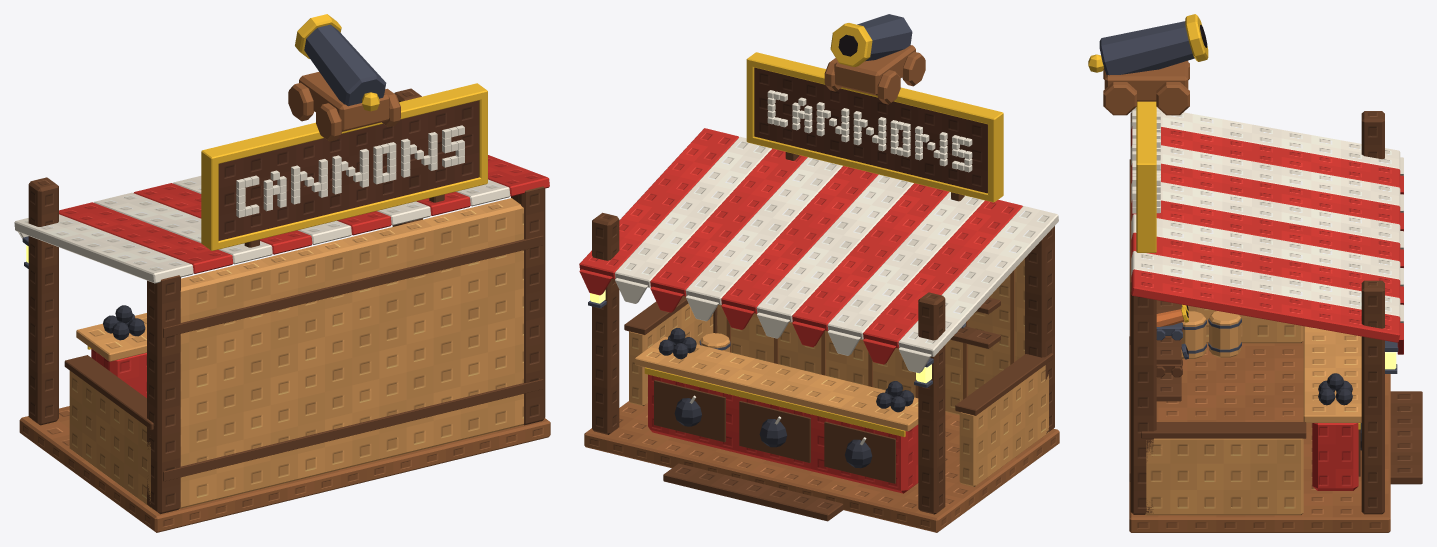
Rendered from CannonShop.glb.
The picture shows the model from 3 angles, left to right: view 1: azimuth 30°, elevation 25°; view 2: azimuth 150°, elevation 25°; view 3: azimuth 270°, elevation 25°; orthographic projection. The views are drawn at different scales.
Parts seen in each view (by area): view 1: CannonShop; view 2: CannonShop; view 3: CannonShop.
Boxes of the visible parts, x1,y1,x2,y2 form: CannonShop: (14, 14, 550, 532); CannonShop: (579, 14, 1059, 532); CannonShop: (1088, 14, 1422, 532).
Size of the model in its own units: 15 by 16.1 by 11.51.
2 materials, 1 textured.
